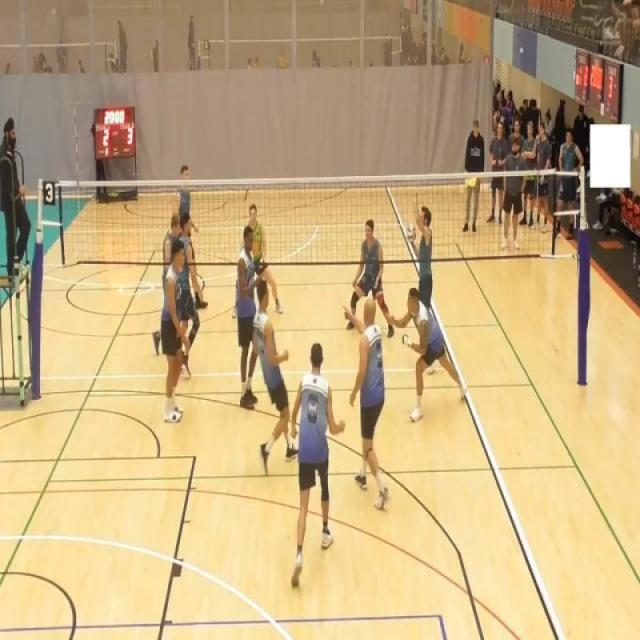volleyball: (406, 222, 417, 242), (52, 9, 56, 16), (319, 0, 323, 6)
